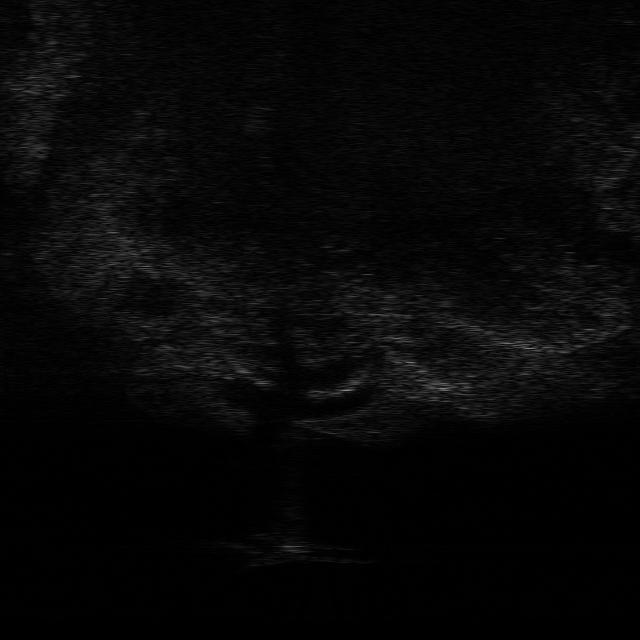plane: (212, 529, 368, 567)
